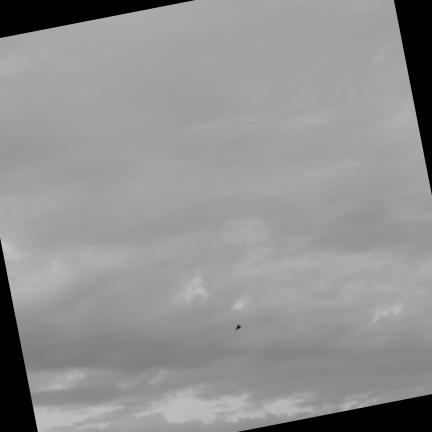Shahed: (236, 325, 242, 330)
